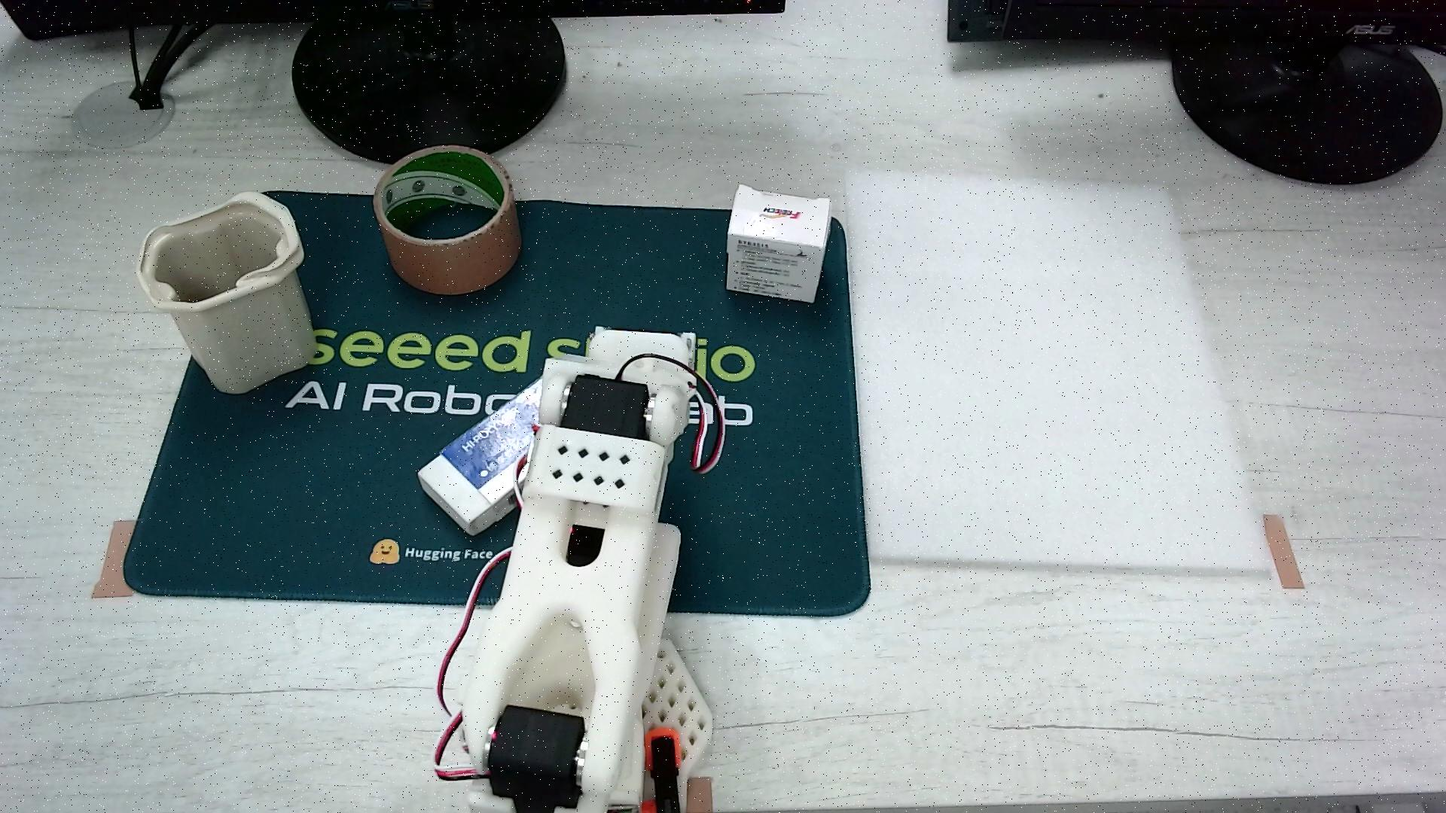eraser: (726, 184, 830, 303)
